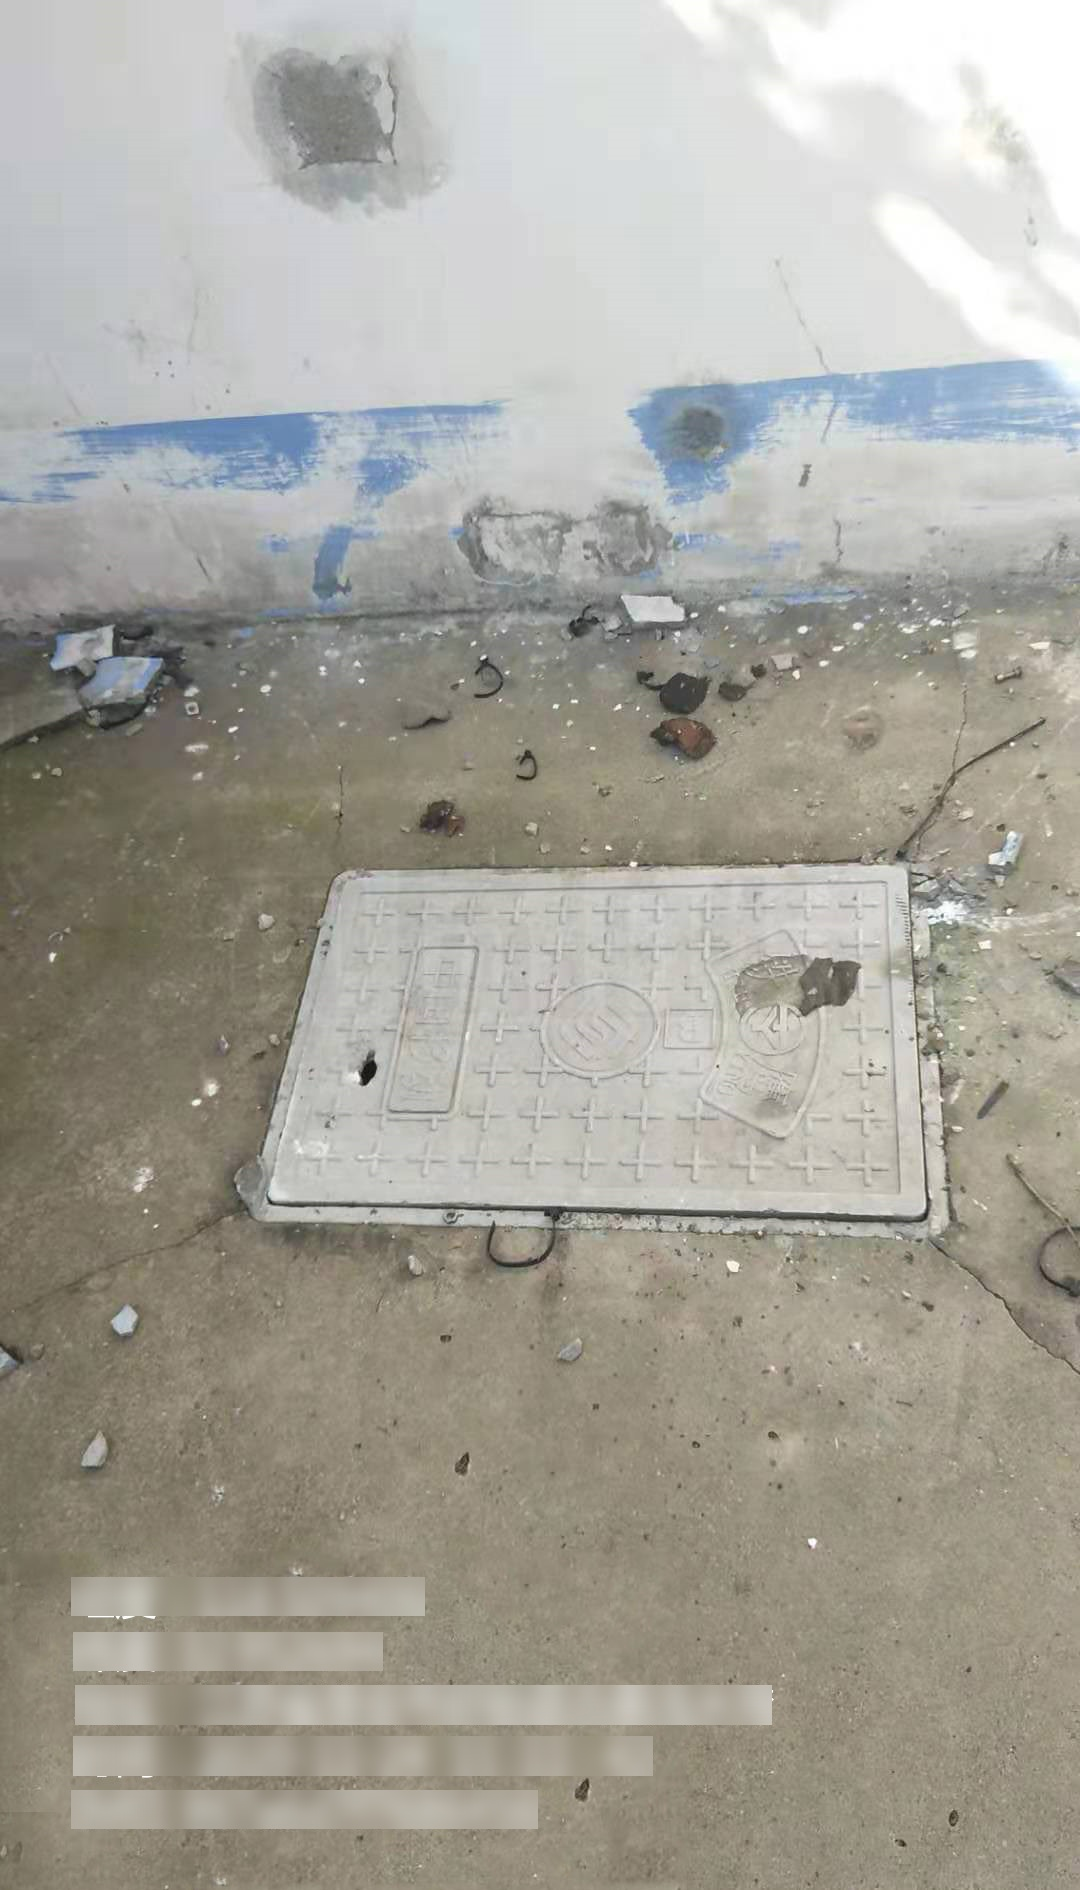good: (243, 858, 951, 1241)
